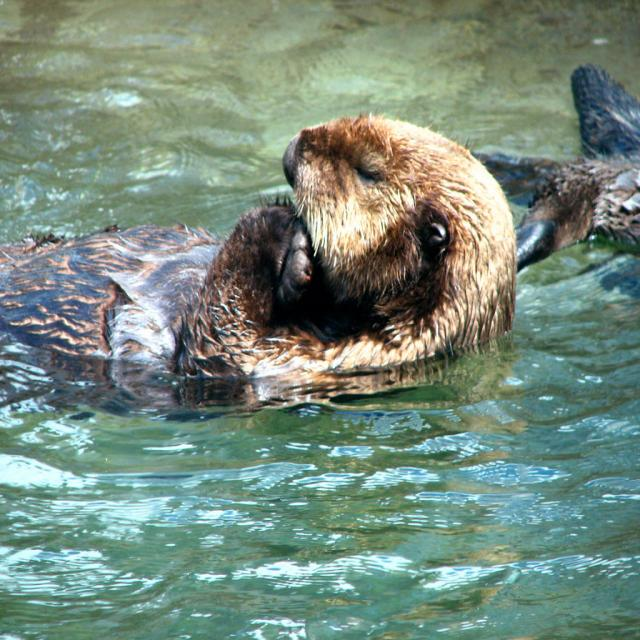otter: (1, 113, 517, 376)
